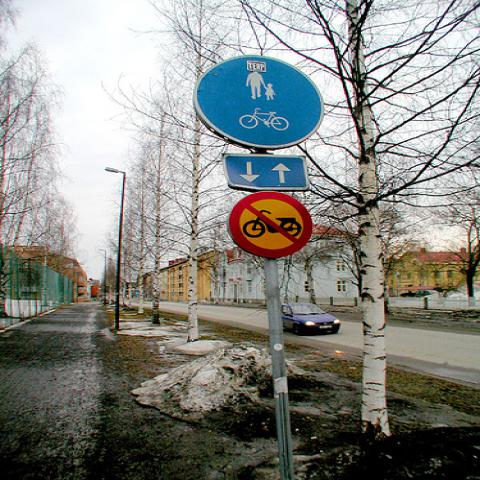car: (280, 302, 341, 335), (415, 290, 439, 297), (401, 291, 416, 297)
